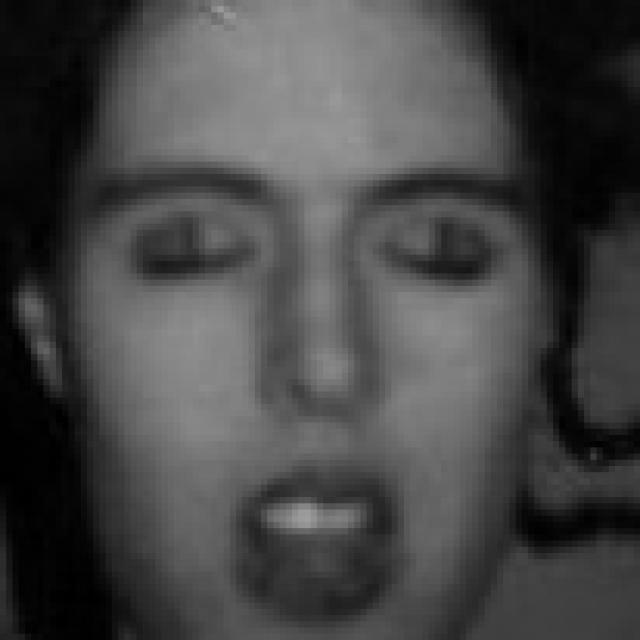real: (66, 0, 546, 640), (122, 190, 516, 304)
